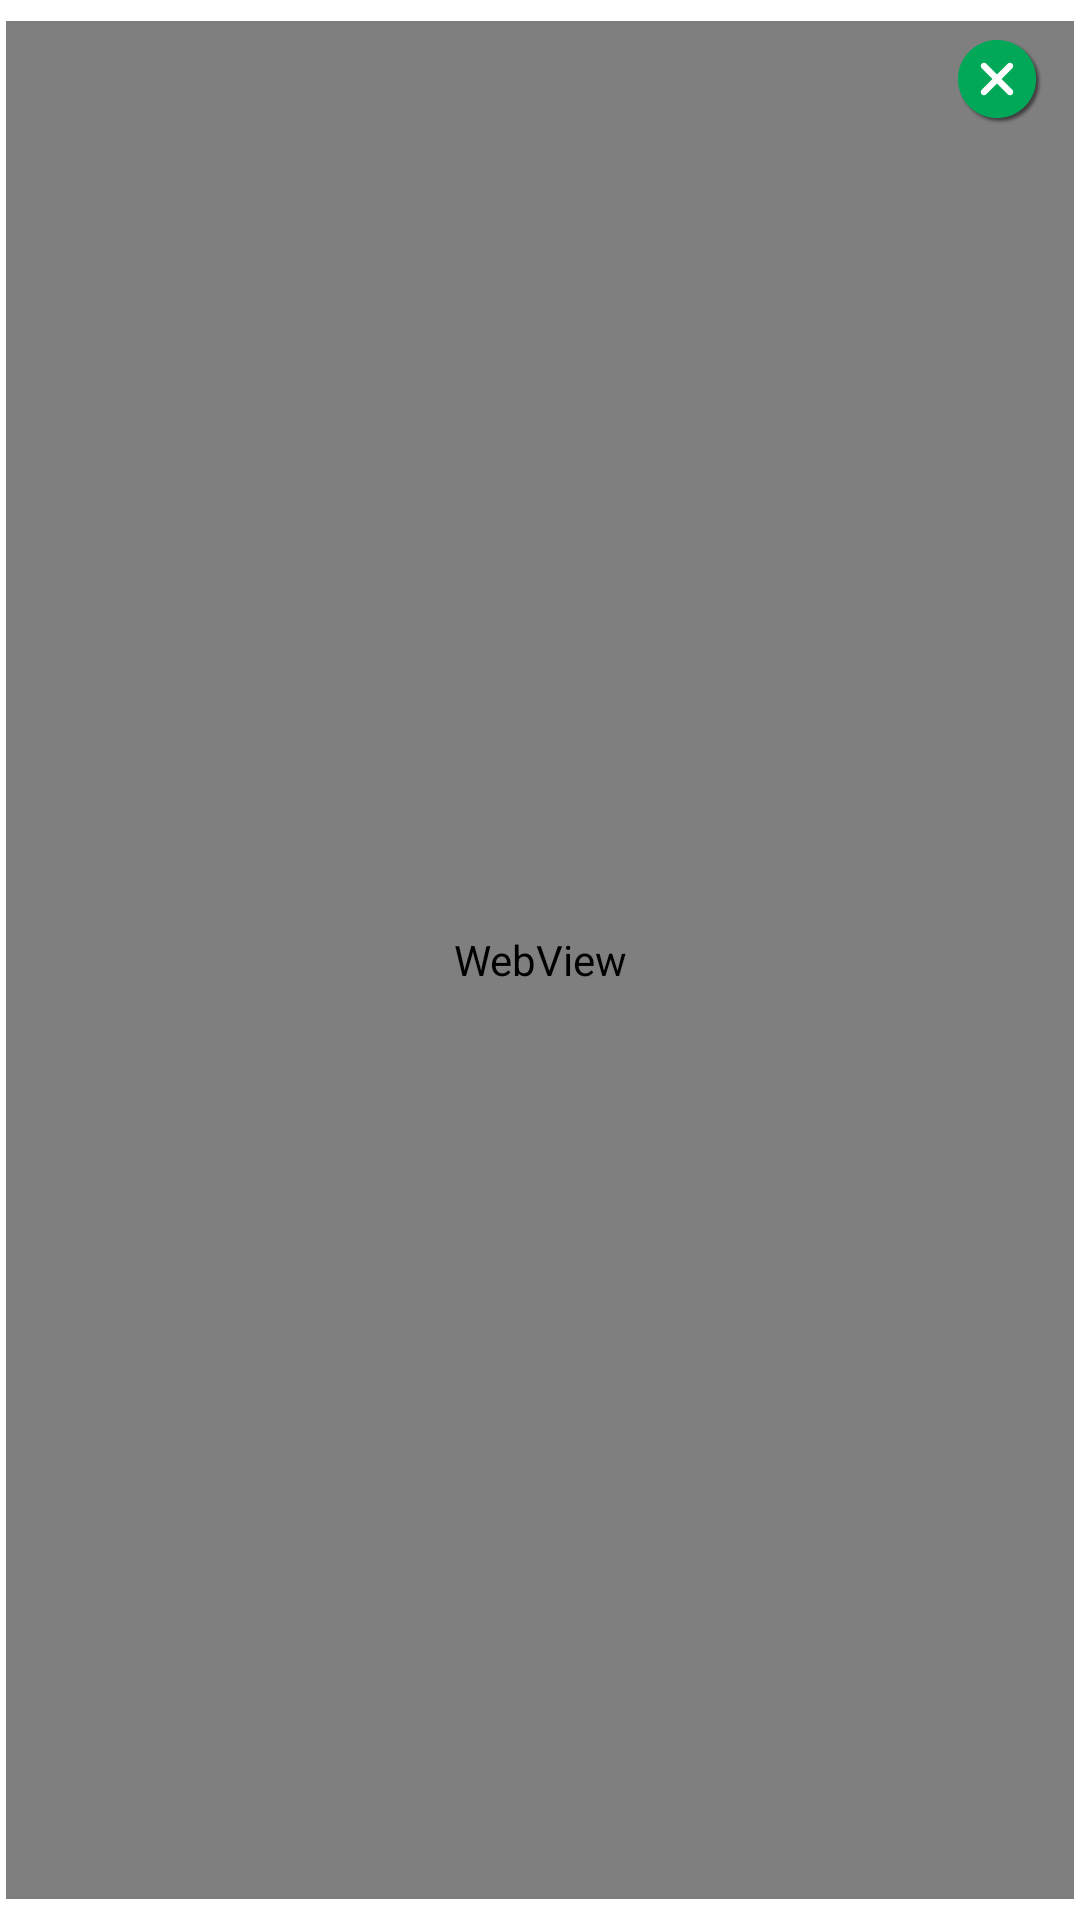

Point at icon controls on the screen. Image size 1080 × 1920, points as (x=x, y=y).
close: (x=998, y=80)
